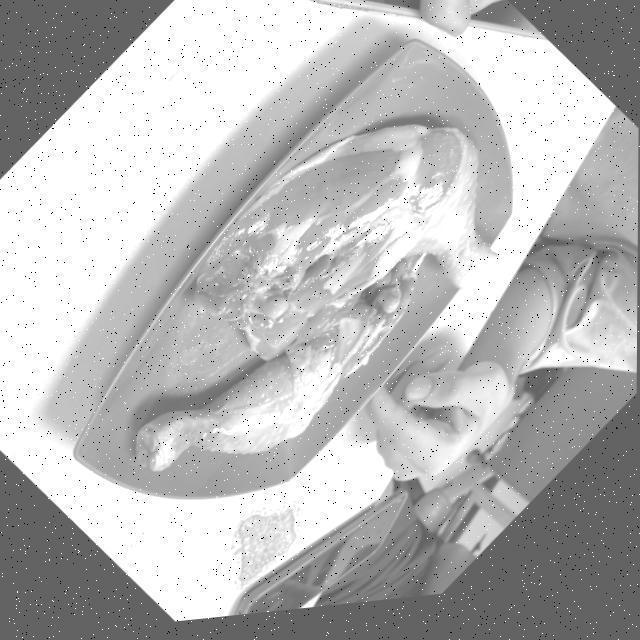quater: (202, 119, 500, 304), (146, 283, 408, 472)
